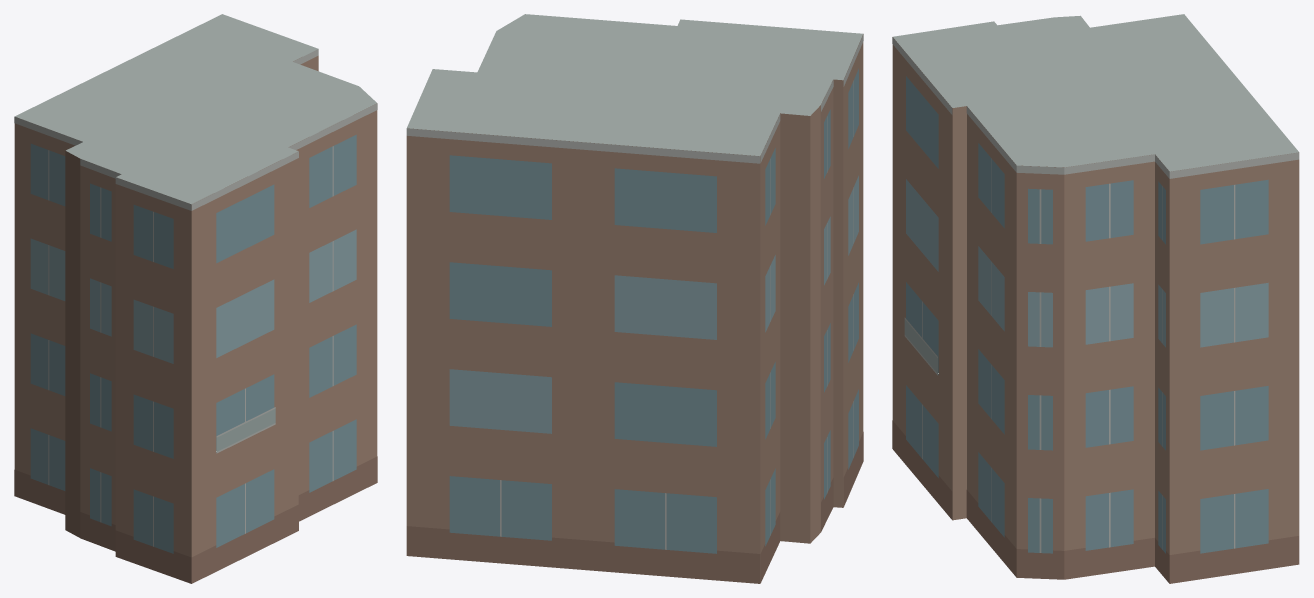
The model's file is survey-upis-32756580.glb.
3 views of the same model, side by side, from view 1: azimuth 30°, elevation 25°; view 2: azimuth 150°, elevation 25°; view 3: azimuth 270°, elevation 25° (orthographic). The views are drawn at different scales.
Parts seen in each view (by area): view 1: survey-upis-32756580.tmp; view 2: survey-upis-32756580.tmp; view 3: survey-upis-32756580.tmp.
Part boxes in pixels (left/top/right/bottom): survey-upis-32756580.tmp: left=14, top=14, right=377, bottom=583; survey-upis-32756580.tmp: left=406, top=14, right=863, bottom=583; survey-upis-32756580.tmp: left=892, top=14, right=1299, bottom=583.
Size of the model in its own units: 11.33 by 13.8 by 12.35.
